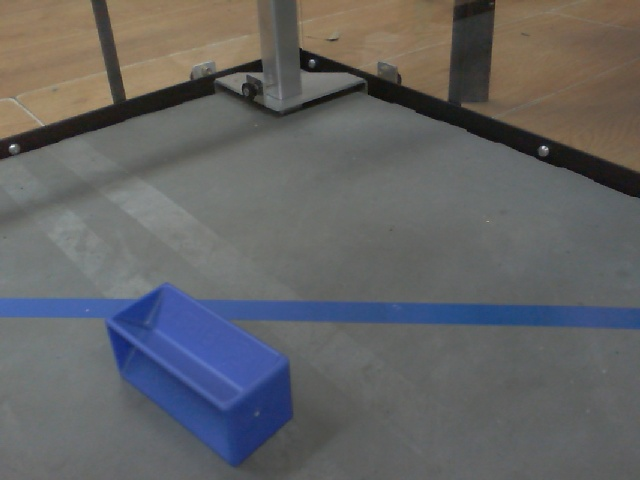BlueSample: (104, 278, 297, 468)
